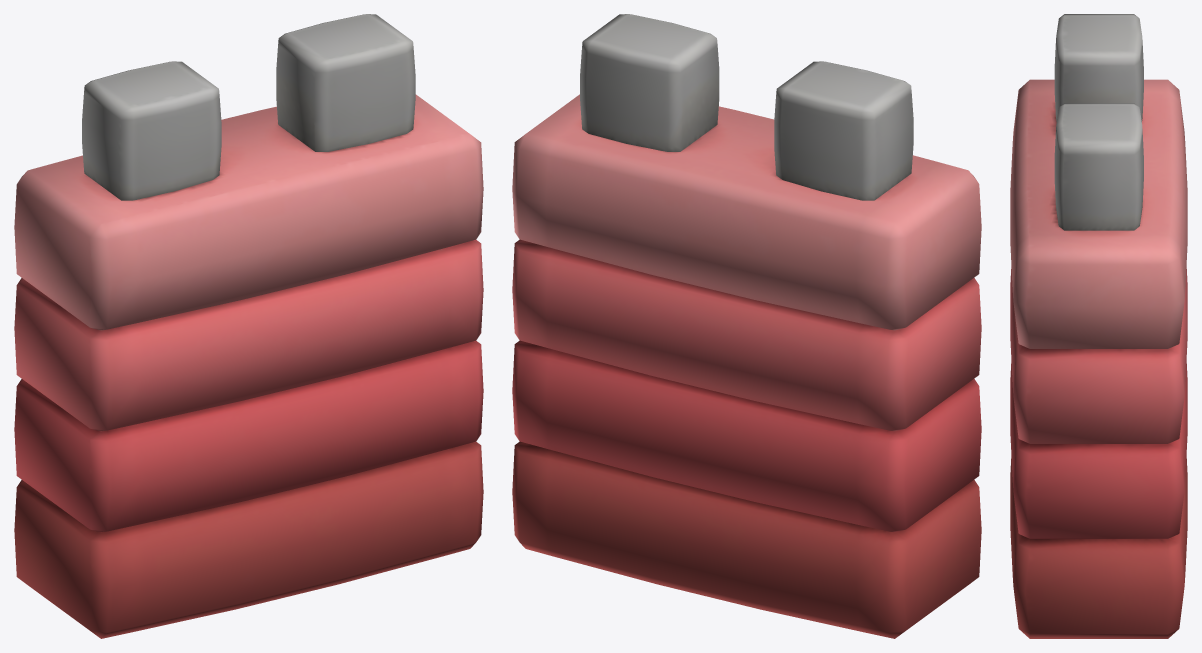
The model's file is JaggedLargeWall.fbx.
3 views of the same model, side by side, from view 1: azimuth 30°, elevation 25°; view 2: azimuth 150°, elevation 25°; view 3: azimuth 270°, elevation 25° (orthographic). The views are drawn at different scales.
Parts seen in each view (by area): view 1: JaggedLargeWall; view 2: JaggedLargeWall; view 3: JaggedLargeWall.
Boxes of the visible parts, <box> form: JaggedLargeWall: <box>14,14,483,638</box>; JaggedLargeWall: <box>512,14,981,638</box>; JaggedLargeWall: <box>1010,14,1187,638</box>.
Bounding box in the file's own units: 306 × 380 × 128.
